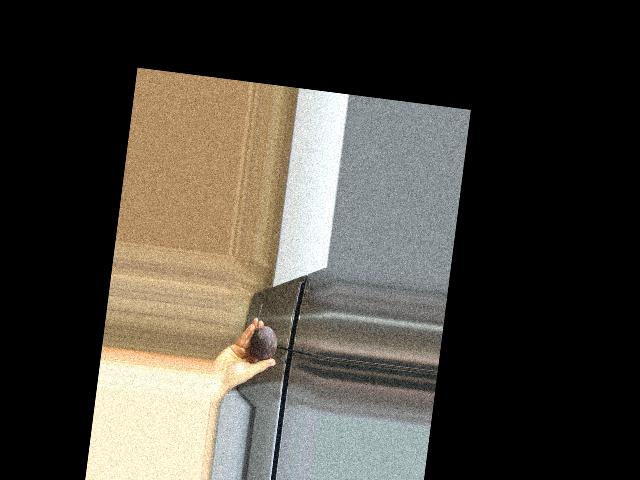beet: (248, 301, 282, 361)
